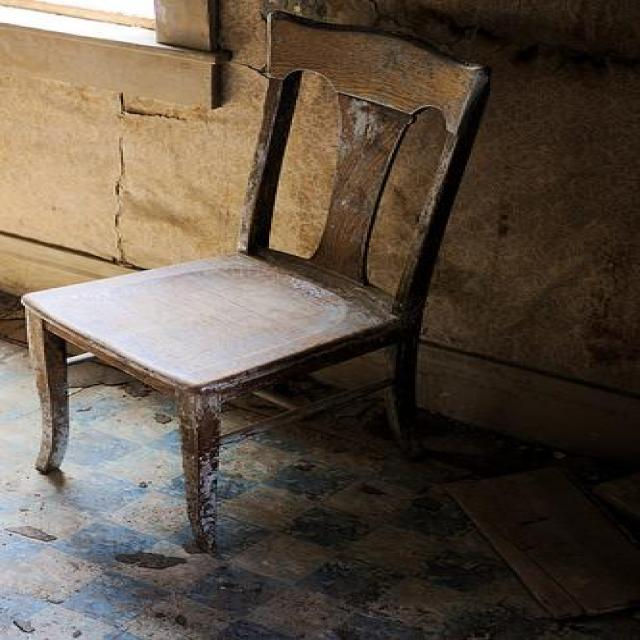chair: (19, 8, 492, 553)
